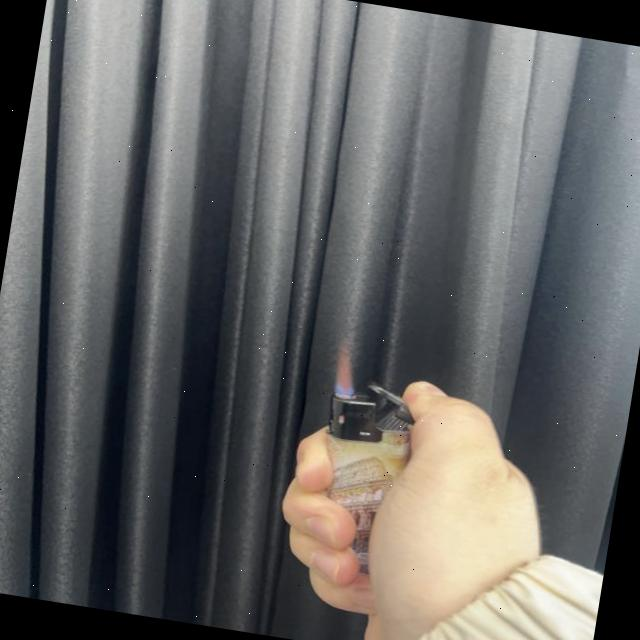fire: (329, 341, 362, 399)
